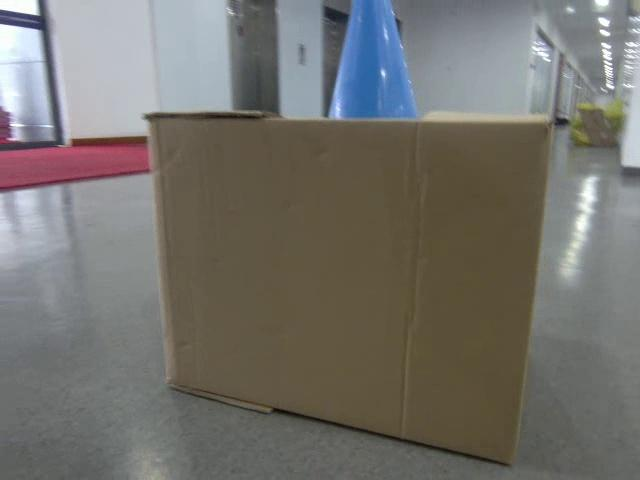blue_barrel: (323, 0, 422, 118)
